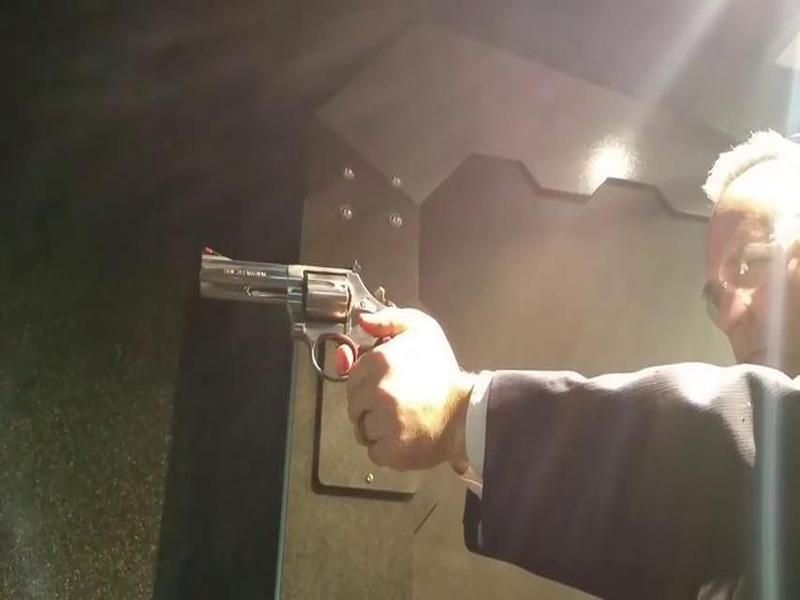Revolver: (192, 224, 407, 407)
